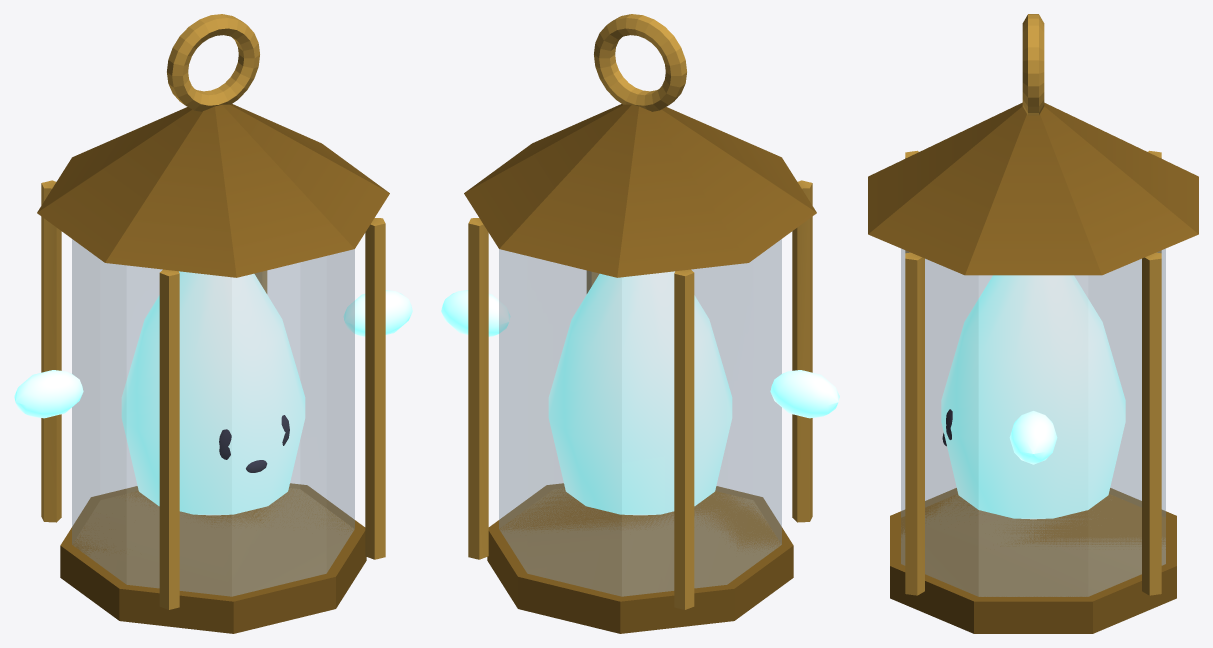
The model's file is ghost_lantern.glb.
3 renders of one model, left to right at view 1: azimuth 30°, elevation 25°; view 2: azimuth 150°, elevation 25°; view 3: azimuth 270°, elevation 25°, orthographic.
Visible parts, largest first — view 1: ghost_lantern; view 2: ghost_lantern; view 3: ghost_lantern.
Boxes of the visible parts, x1,y1,x2,y2 form: ghost_lantern: [14, 14, 412, 633]; ghost_lantern: [441, 14, 839, 633]; ghost_lantern: [868, 14, 1198, 633].
Bounding box in the file's own units: 0.77 × 1.03 × 0.5543.
